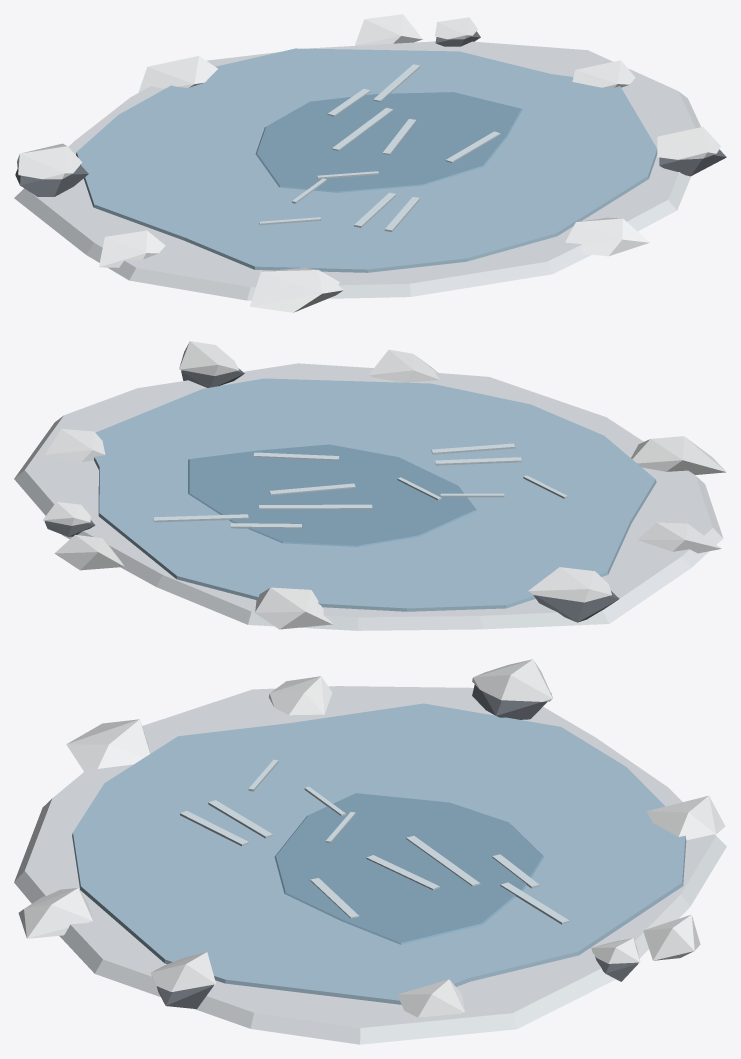
The model's file is Frozen_Pond.fbx.
The picture shows the model from 3 angles, top to bottom: view 1: azimuth 30°, elevation 25°; view 2: azimuth 150°, elevation 25°; view 3: azimuth 270°, elevation 25°; orthographic projection. The views are drawn at different scales.
Parts seen in each view (by area): view 1: Ice, Bank, Deep, Snow, Glints, Stones; view 2: Ice, Bank, Deep, Snow, Glints, Stones; view 3: Ice, Bank, Deep, Snow, Glints, Stones.
Boxes of the visible parts, x1,y1,x2,y2 form: Ice: (76,48,657,272); Bank: (14,41,700,300); Deep: (255,92,522,192); Snow: (17,14,720,312); Glints: (259,64,500,231); Stones: (15,31,726,196); Ice: (94,378,656,611); Bank: (14,363,723,630); Deep: (188,444,476,546); Snow: (43,341,726,629); Glints: (153,443,567,528); Stones: (44,368,619,622); Ice: (72,703,686,1004); Bank: (14,686,726,1044); Deep: (274,793,543,944); Snow: (18,659,725,1017); Glints: (180,759,569,924); Stones: (156,684,638,1008).
Size of the model in its own units: 10.97 by 0.6992 by 9.24.
